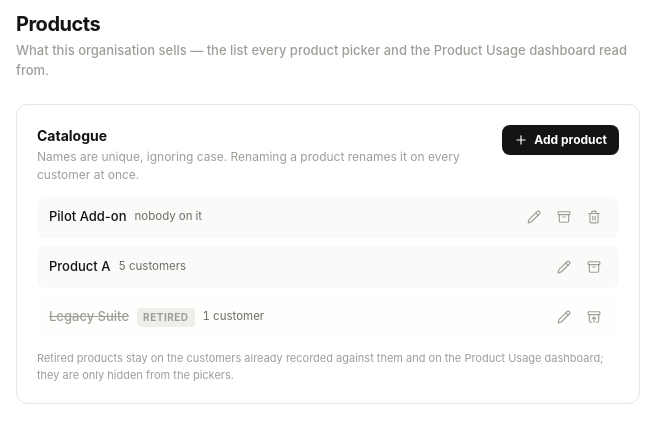
Test: ProductsPage › retires a product rather than deleting one customers are on
Check: the text "Product A" is shown, box [49,257,110,277]
Click the button named "Retire Product A" at [594, 267], box [581,254,607,280]
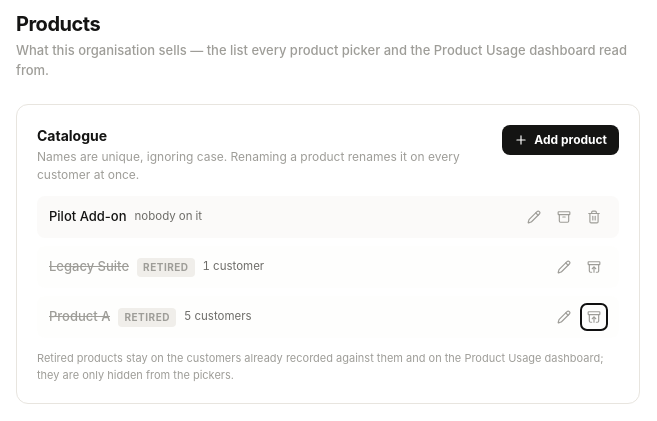
Check: the text "Retired" next to "Product A" is shown, box [124,310,170,322]
